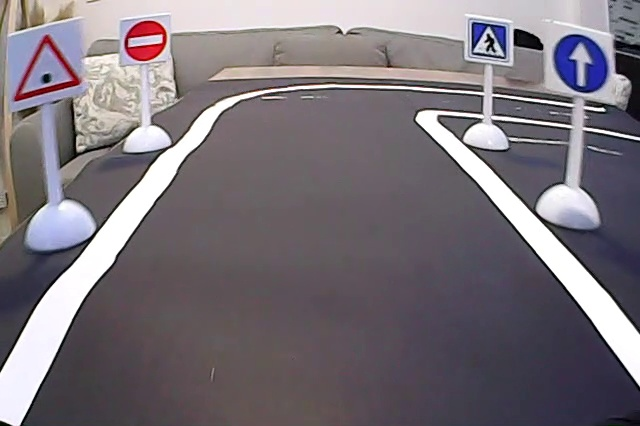do not enter: (121, 17, 170, 64)
green light: (11, 29, 85, 109)
pedestrian crossing: (467, 18, 510, 64)
